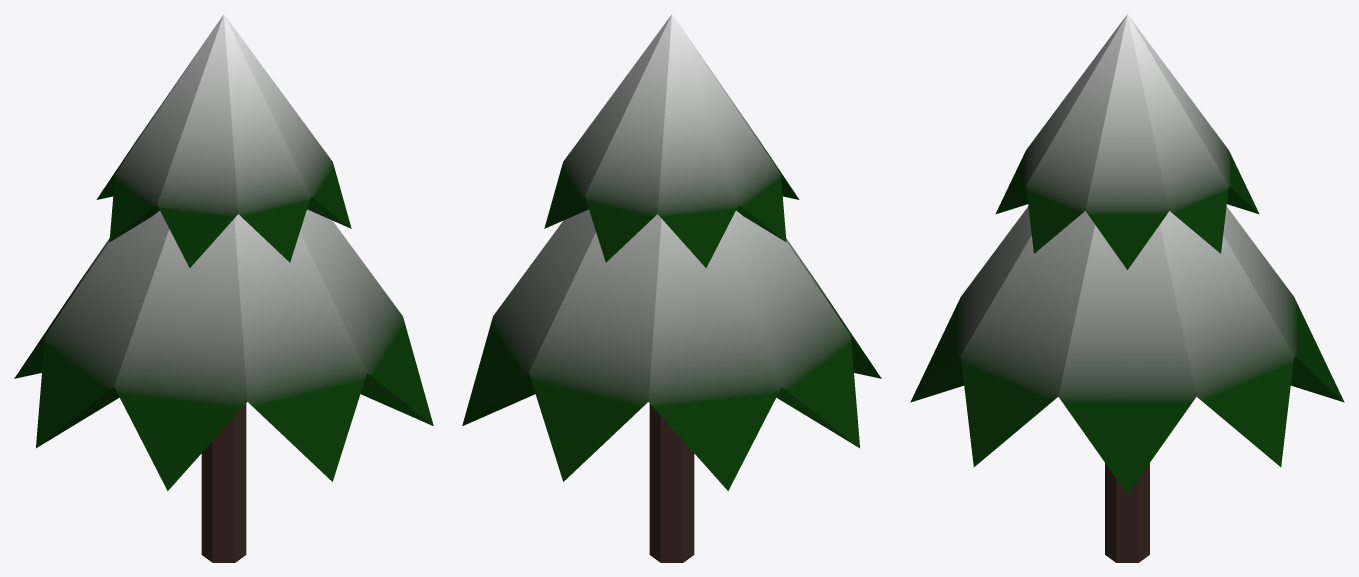
File: Tree4.glb
3 renders of one model, left to right at view 1: azimuth 30°, elevation 25°; view 2: azimuth 150°, elevation 25°; view 3: azimuth 270°, elevation 25°, orthographic.
Visible parts, largest first — view 1: Leaves4.002, Leaves4.001, Wood4; view 2: Leaves4.002, Leaves4.001, Wood4; view 3: Leaves4.002, Leaves4.001, Wood4.
Part boxes in pixels (x1,y1,x2,y2): Leaves4.002: (14,209,433,490); Leaves4.001: (96,14,351,267); Wood4: (201,403,246,562); Leaves4.002: (462,209,881,490); Leaves4.001: (544,14,799,267); Wood4: (649,403,694,562); Leaves4.002: (910,206,1344,493); Leaves4.001: (995,14,1259,269); Wood4: (1105,463,1149,562).
Bounding box in the file's own units: 40.29 × 55.31 × 40.29.
Materials: 2 (2 with a texture image).
